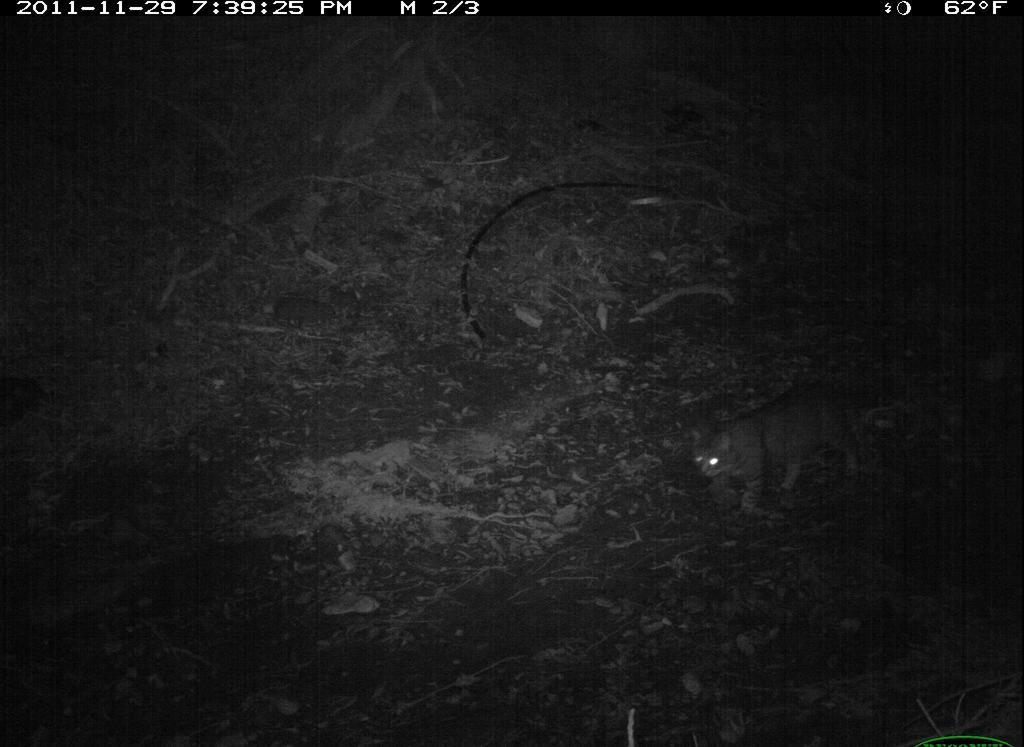cat: (678, 363, 917, 527)
